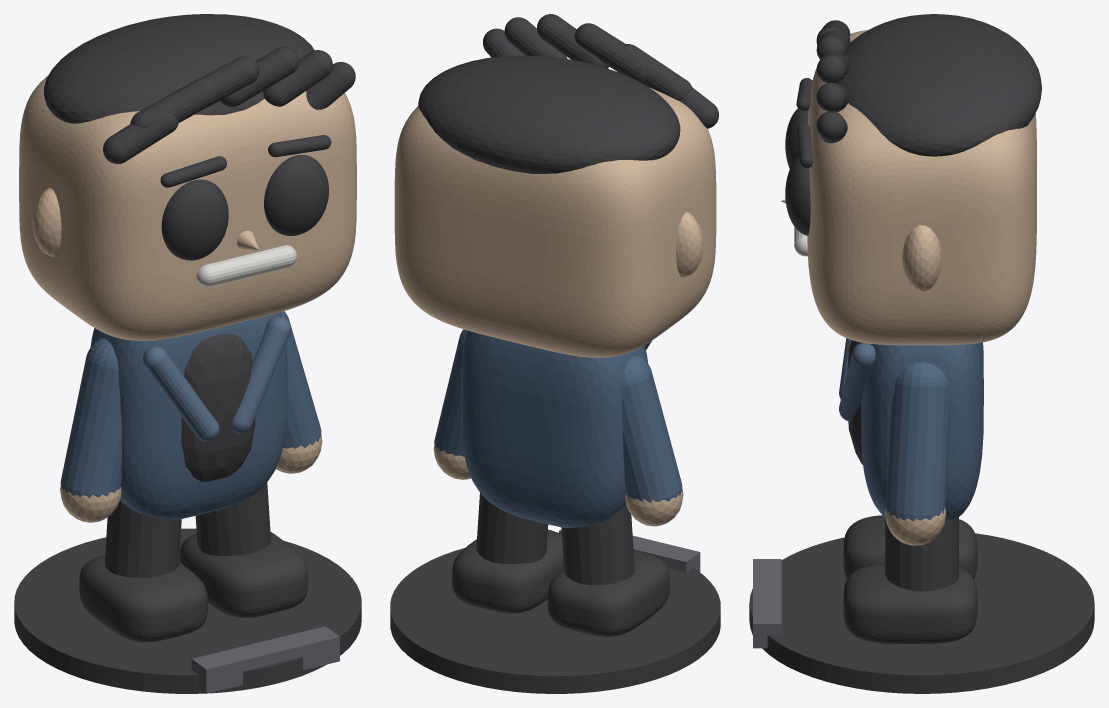
The model's file is glenn_funko_v8.glb.
3 renders of one model, left to right at view 1: azimuth 30°, elevation 25°; view 2: azimuth 150°, elevation 25°; view 3: azimuth 270°, elevation 25°, orthographic. The views are drawn at different scales.
Visible parts, largest first — view 1: head, base, body, hair, shoes, blazer, arms, hair_swept, legs, nameplate, eye_l, eye_r (+3 smaller); view 2: head, body, base, hair, shoes, arms, legs, hair_swept, ears, nameplate; view 3: head, base, hair, body, shoes, arms, legs, hair_swept, blazer, nameplate, ears, eye_r (+2 smaller).
Boxes of the visible parts, bbox=[...] form: head: bbox=[19, 76, 356, 340]; base: bbox=[14, 528, 361, 693]; body: bbox=[90, 312, 287, 519]; hair: bbox=[44, 14, 314, 123]; shoes: bbox=[79, 532, 307, 642]; blazer: bbox=[143, 316, 290, 481]; arms: bbox=[60, 311, 322, 522]; hair_swept: bbox=[103, 46, 355, 164]; legs: bbox=[104, 482, 270, 577]; nameplate: bbox=[191, 626, 339, 693]; eye_l: bbox=[161, 179, 228, 260]; eye_r: bbox=[264, 155, 328, 235]; head: bbox=[394, 87, 716, 357]; body: bbox=[461, 330, 648, 527]; base: bbox=[390, 548, 720, 693]; hair: bbox=[418, 55, 680, 173]; shoes: bbox=[452, 529, 669, 636]; arms: bbox=[433, 329, 683, 526]; legs: bbox=[476, 492, 634, 585]; hair_swept: bbox=[483, 14, 718, 128]; ears: bbox=[676, 212, 703, 277]; nameplate: bbox=[559, 529, 700, 572]; head: bbox=[807, 29, 1036, 345]; base: bbox=[749, 533, 1094, 693]; hair: bbox=[836, 14, 1041, 156]; body: bbox=[861, 342, 983, 519]; shoes: bbox=[843, 515, 977, 643]; arms: bbox=[885, 362, 949, 545]; legs: bbox=[885, 517, 958, 591]; hair_swept: bbox=[816, 20, 850, 143]; blazer: bbox=[839, 338, 875, 464]; nameplate: bbox=[753, 559, 781, 648]; ears: bbox=[902, 225, 941, 291]; eye_r: bbox=[785, 156, 810, 235].
Bounding box in the file's own units: 55 × 102 × 54.
